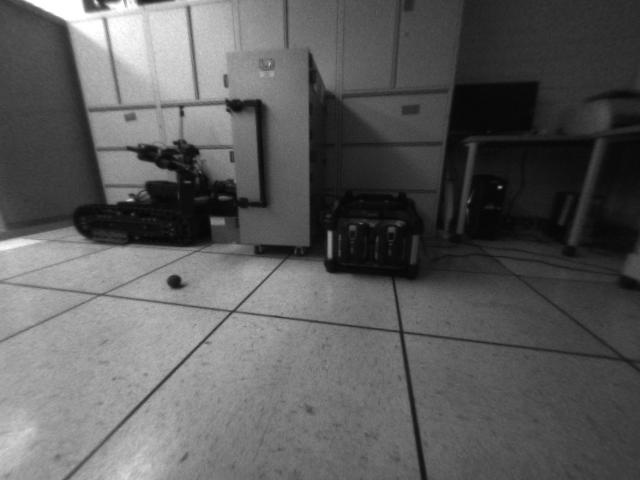dogtoy: (162, 269, 189, 293)
